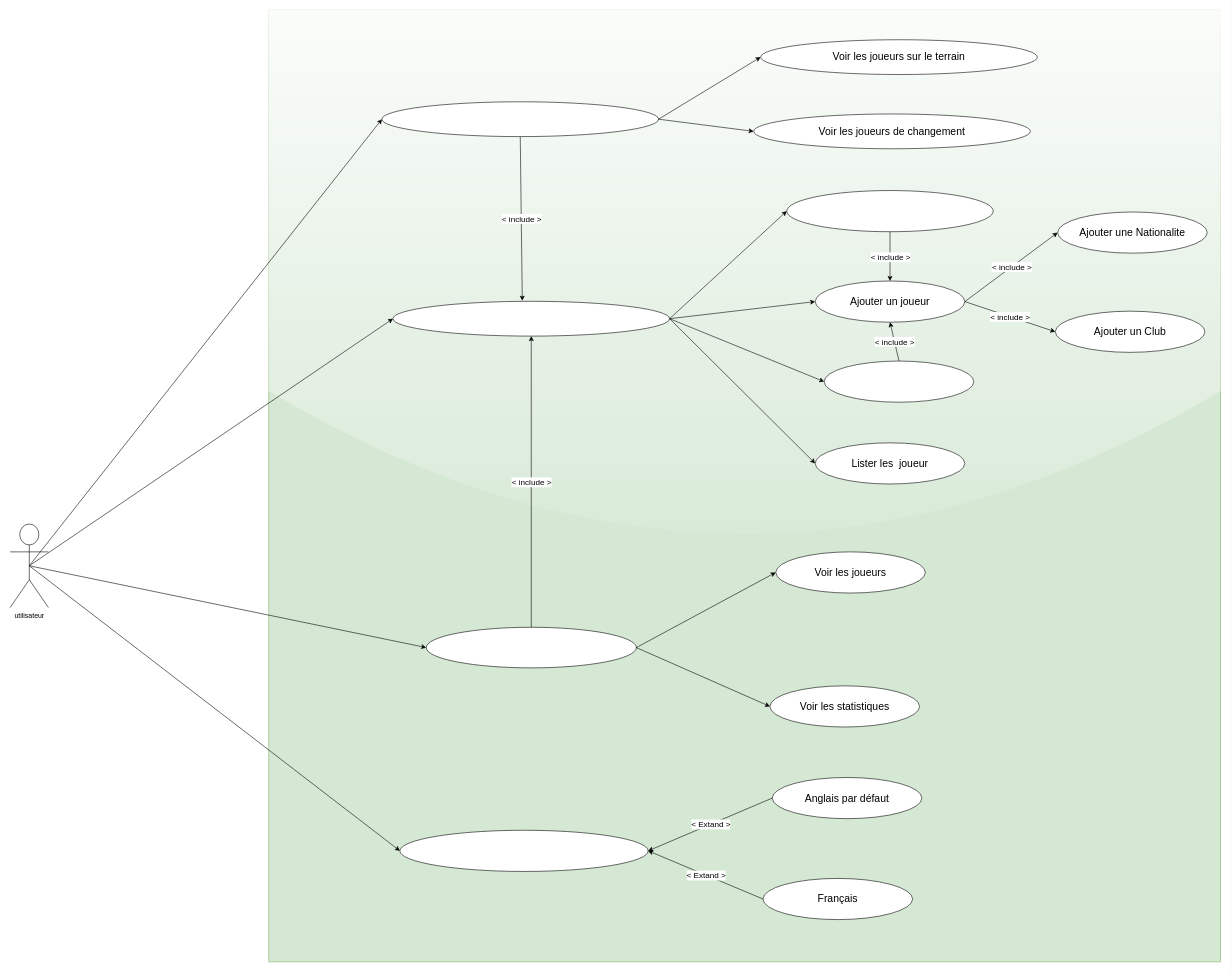
This 1231x972 diagram has some shape labels left out. The shapes that lost their labels are listed below. From the top down, each one's centre as x and y in pixels, then its label:
At (520,119): "les joueurs sur le terrain".
At (889,211): "Modifier les informations d'un joueur".
At (531,318): "Gestion des joueurs".
At (899,381): "Supprimer un joueur".
At (531,647): "Acceder au Dashboard".
At (523,850): "Internationalisation (Changer la Langue)".
